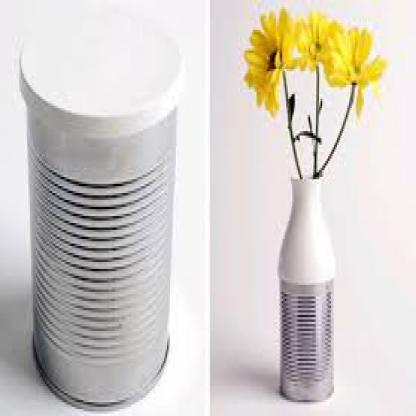Compsot: (25, 87, 170, 414), (279, 273, 331, 400)
Dgrx: (243, 5, 386, 170)
